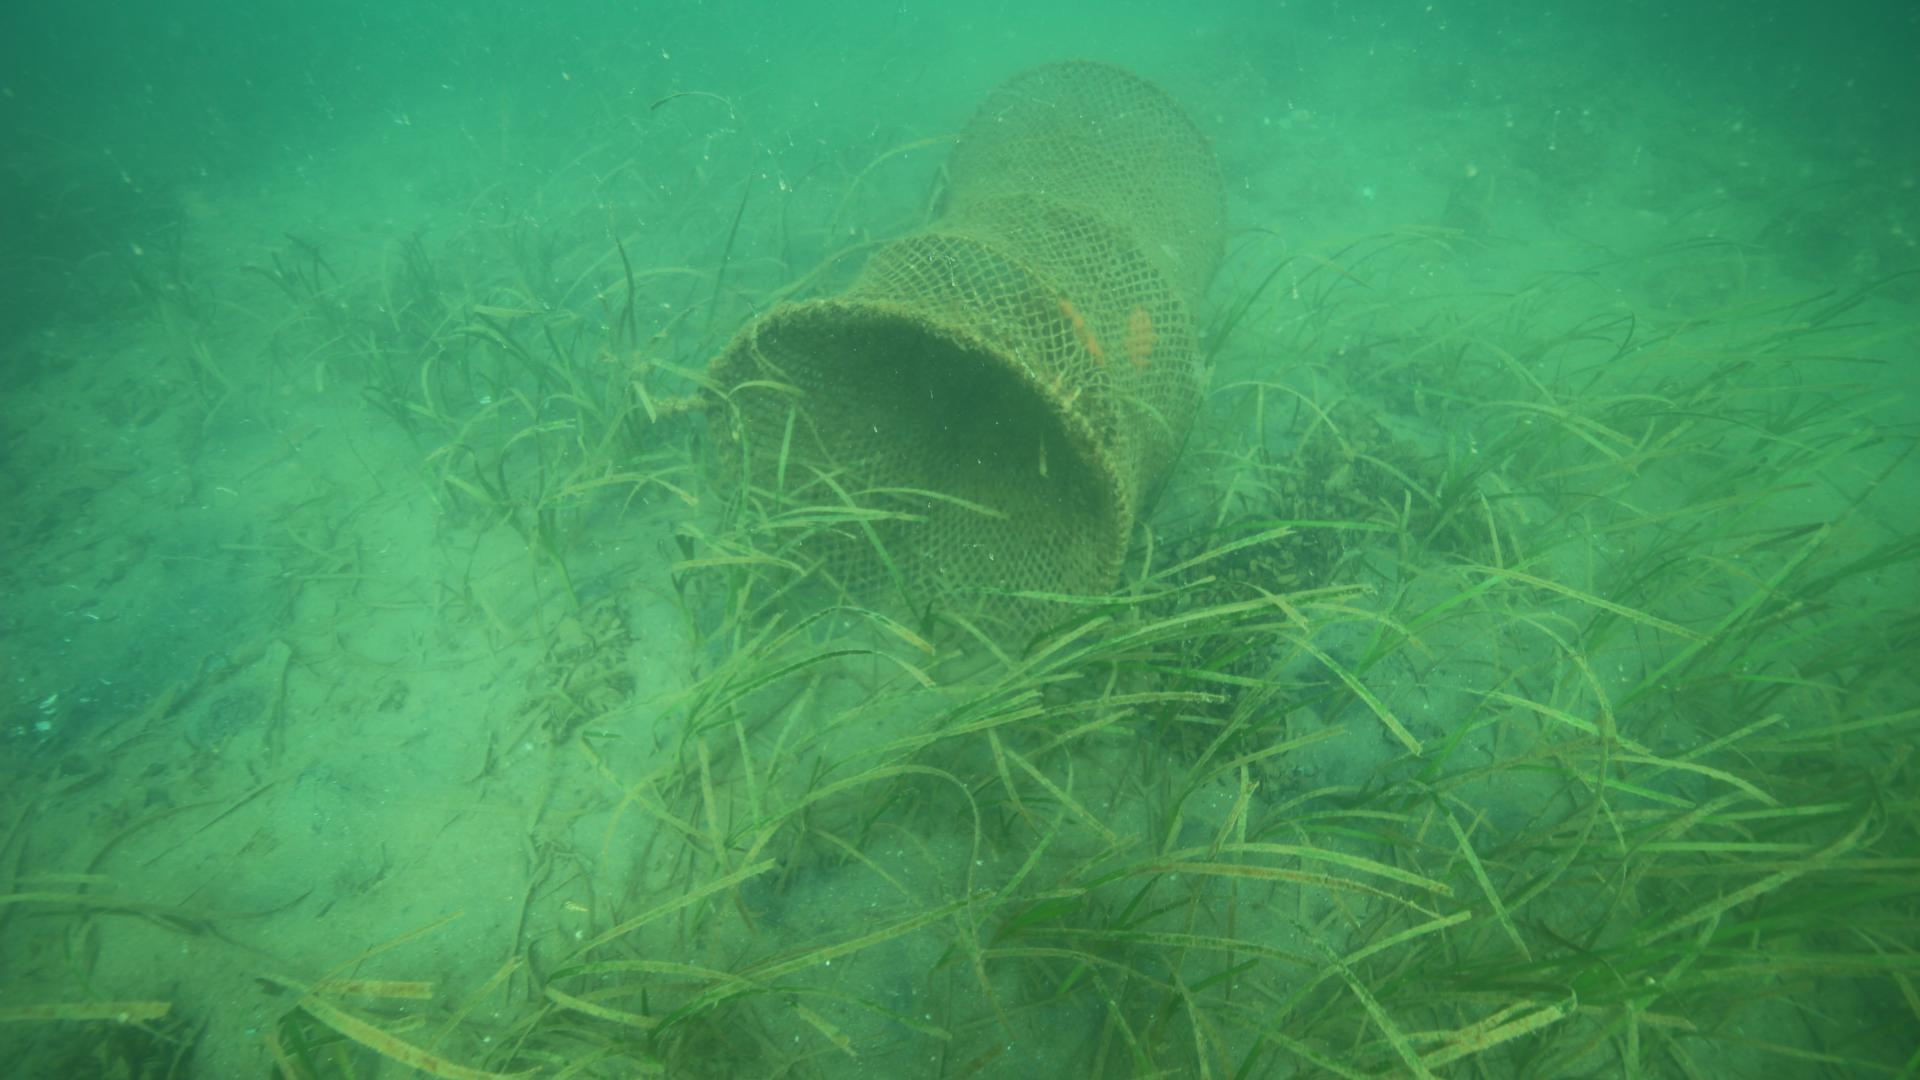spring fish trap: (712, 58, 1222, 645)
